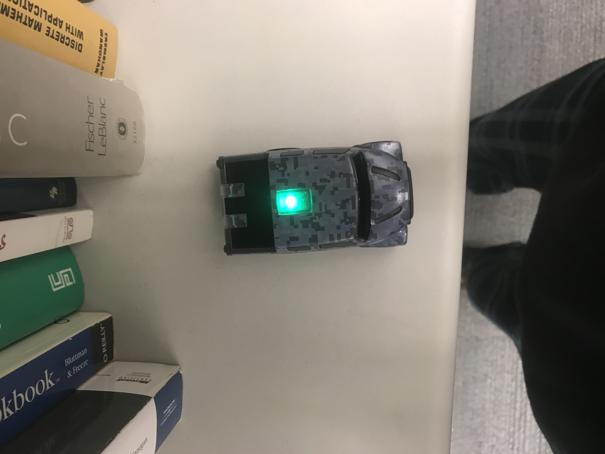MXT: (216, 138, 415, 255)
